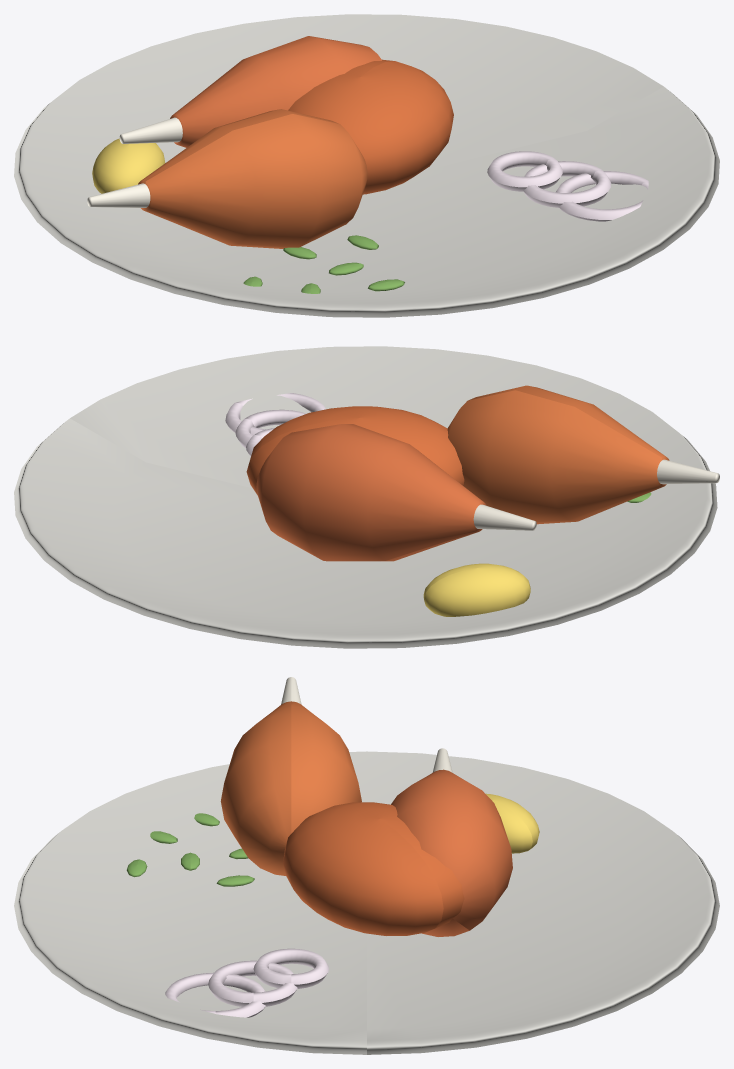
File: tandoori-chicken.glb
3 renders of one model, top to bottom at view 1: azimuth 30°, elevation 25°; view 2: azimuth 150°, elevation 25°; view 3: azimuth 270°, elevation 25°, orthographic.
Visible parts, largest first — view 1: tandoori-chicken; view 2: tandoori-chicken; view 3: tandoori-chicken.
Part boxes in pixels (left/top/right/bottom): tandoori-chicken: left=14, top=14, right=719, bottom=317; tandoori-chicken: left=14, top=346, right=719, bottom=648; tandoori-chicken: left=14, top=677, right=719, bottom=1054.
Bounding box in the file's own units: 0.2843 × 0.062 × 0.28.
